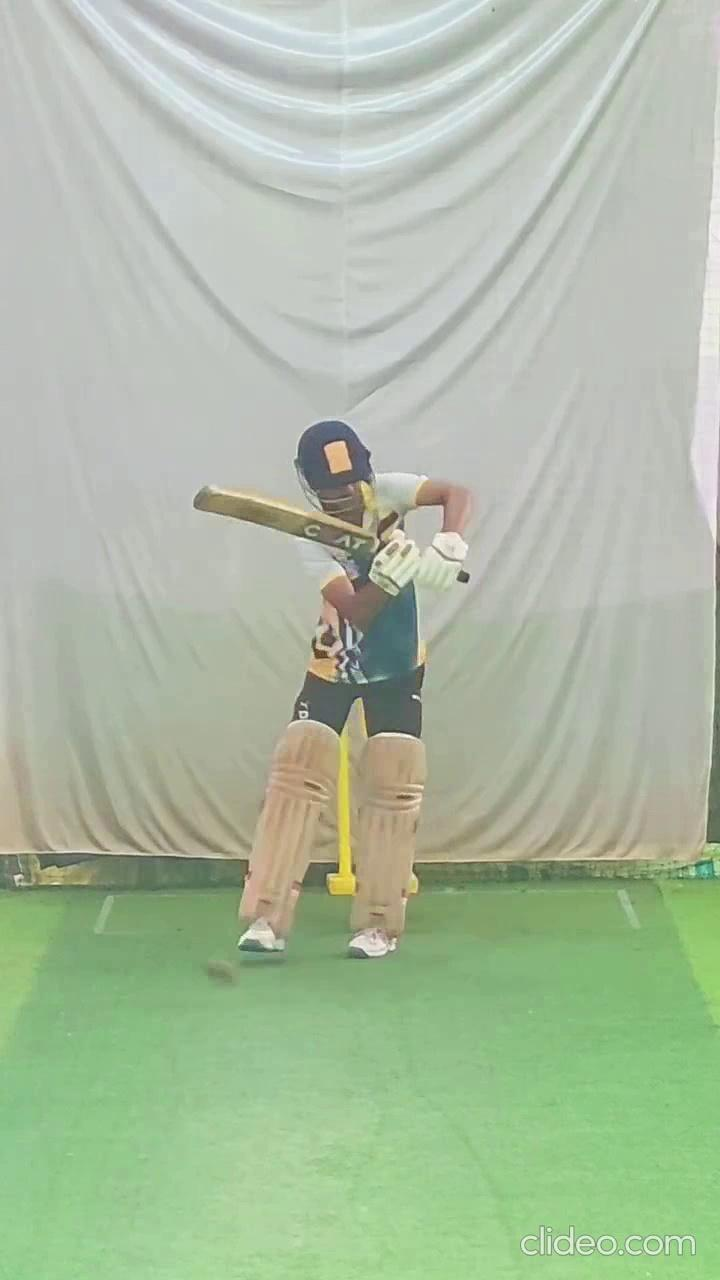bat: (188, 471, 379, 570)
